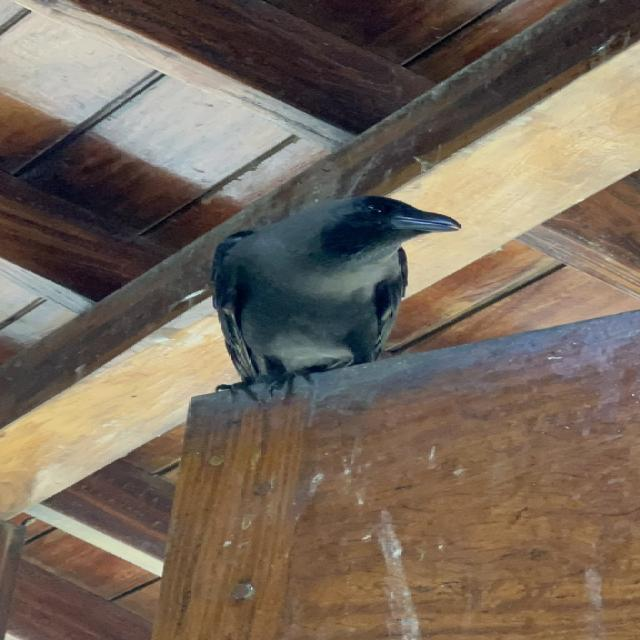bird: (203, 190, 469, 408)
